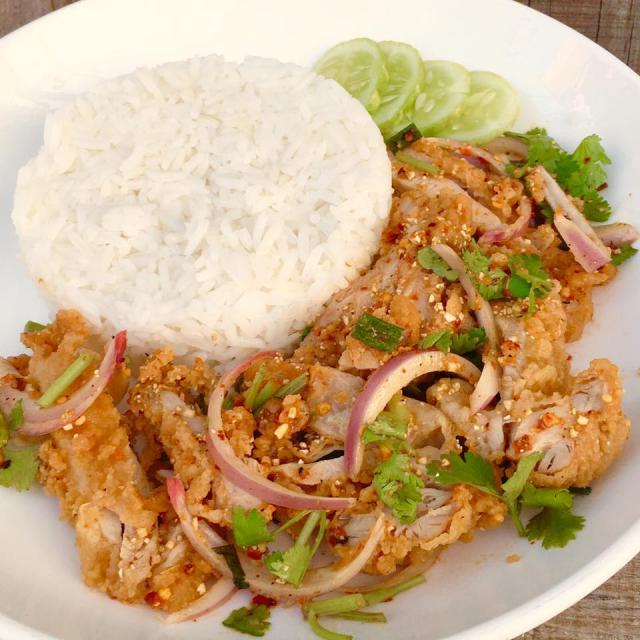carb: (31, 70, 370, 342)
meat: (48, 361, 596, 590)
spicy chicken rice salad: (12, 46, 618, 608)
vegetable: (322, 33, 524, 142), (444, 458, 583, 548), (520, 130, 631, 242)
